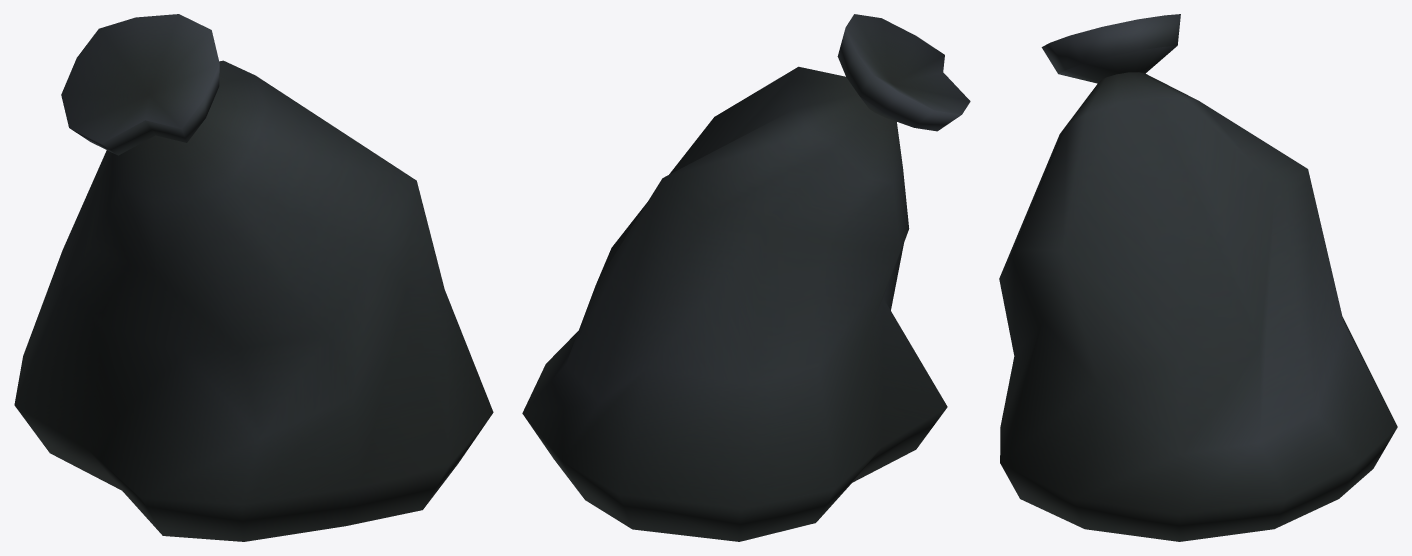
The model's file is trashbag_02.fbx.
3 renders of one model, left to right at view 1: azimuth 30°, elevation 25°; view 2: azimuth 150°, elevation 25°; view 3: azimuth 270°, elevation 25°, orthographic. The views are drawn at different scales.
Parts seen in each view (by area): view 1: Trashbag_02; view 2: Trashbag_02; view 3: Trashbag_02.
Boxes of the visible parts, bbox=[...] form: Trashbag_02: bbox=[14, 14, 493, 541]; Trashbag_02: bbox=[522, 14, 970, 541]; Trashbag_02: bbox=[999, 14, 1397, 541].
Bounding box in the file's own units: 77.74 × 83.48 × 73.81.
